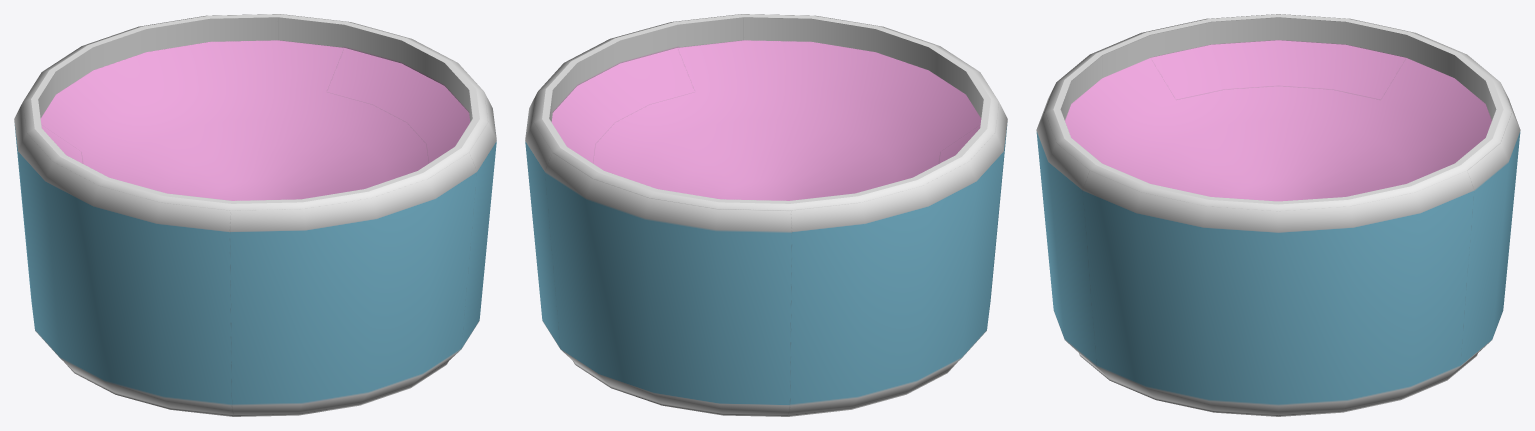
File: UpperSocketDefault.fbx
3 views of the same model, side by side, from view 1: azimuth 30°, elevation 25°; view 2: azimuth 150°, elevation 25°; view 3: azimuth 270°, elevation 25° (orthographic).
Visible parts, largest first — view 1: pCylinder1; view 2: pCylinder1; view 3: pCylinder1.
Boxes of the visible parts, box(x1,y1,x2,y2) form: pCylinder1: box(14, 14, 496, 416); pCylinder1: box(525, 14, 1007, 416); pCylinder1: box(1036, 14, 1520, 416).
Bounding box in the file's own units: 12 × 6 × 12.
Materials: 1 (1 with a texture image).
